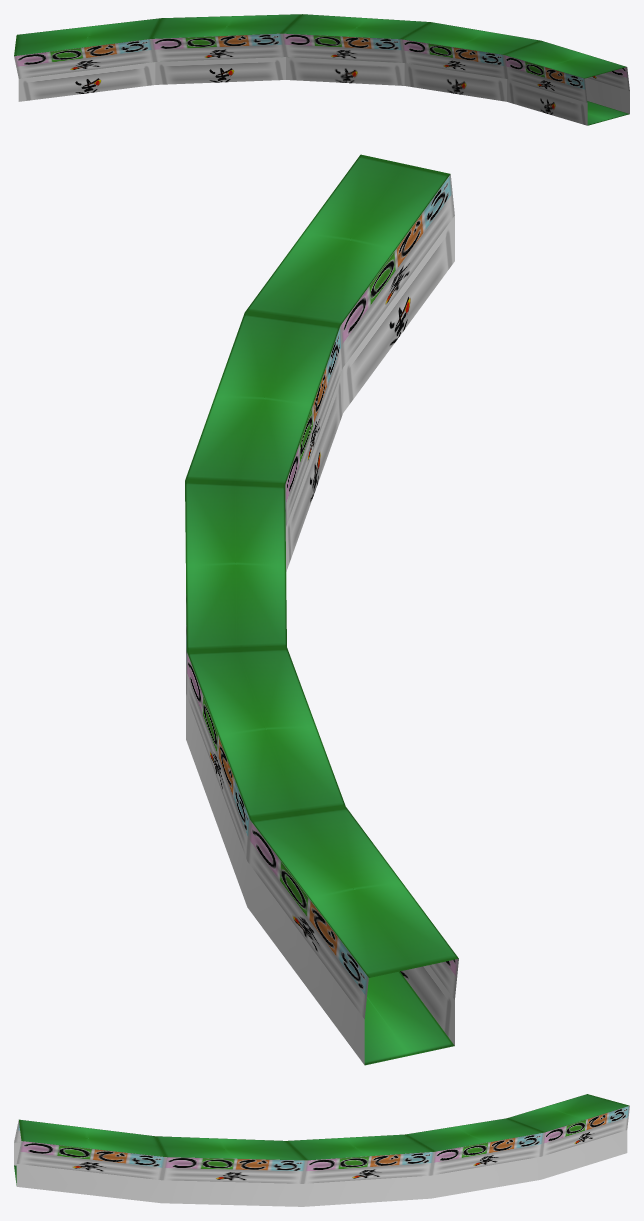
Rendered from CourseSummer_Wall_R_6.fbx.
3 views of the same model, one above another, from view 1: azimuth 30°, elevation 25°; view 2: azimuth 150°, elevation 25°; view 3: azimuth 270°, elevation 25° (orthographic). The views are drawn at different scales.
Visible parts, largest first — view 1: polySurface94; view 2: polySurface94; view 3: polySurface94.
Part boxes in pixels (x1,y1,x2,y2): polySurface94: [14, 14, 629, 125]; polySurface94: [185, 154, 458, 1065]; polySurface94: [14, 1094, 629, 1206].
Bounding box in the file's own units: 15.11 × 6.98 × 24.23.
1 material, 1 textured.
